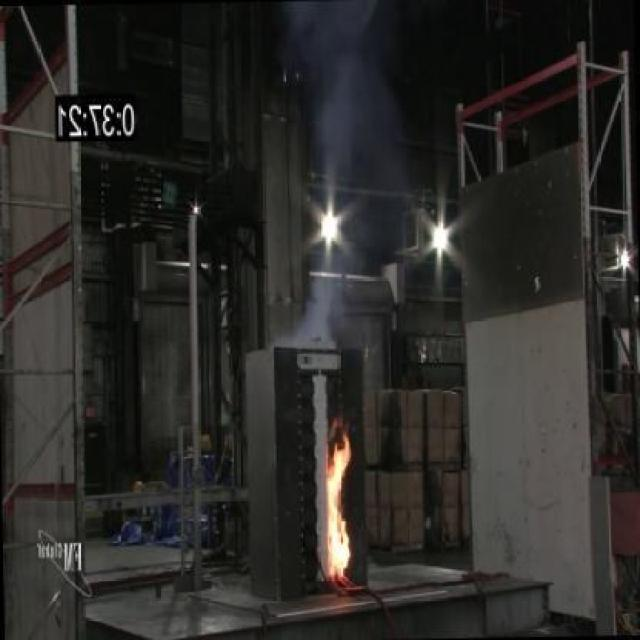fire: (317, 424, 361, 578)
